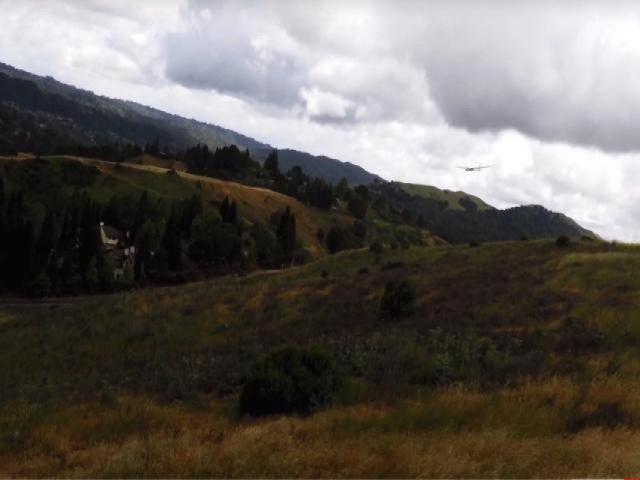iha: (455, 159, 493, 179)
